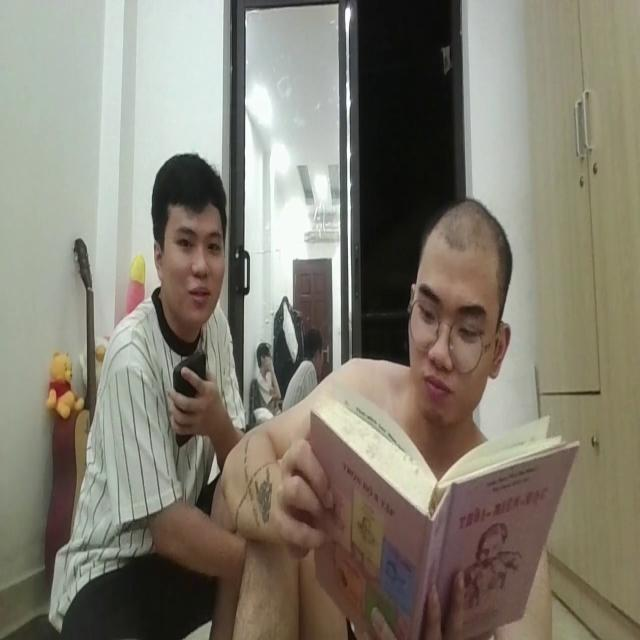book: (306, 370, 577, 640)
extra_person: (42, 146, 248, 640)
student: (228, 193, 554, 640)
